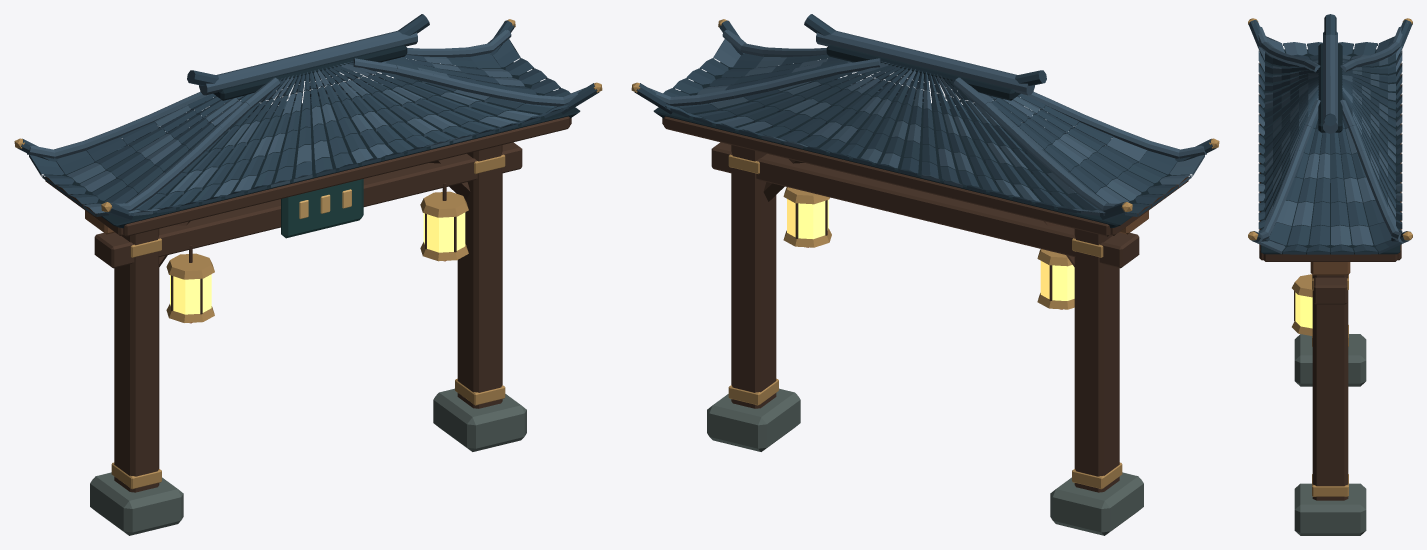
The model's file is gate.glb.
The picture shows the model from 3 angles, left to right: view 1: azimuth 30°, elevation 25°; view 2: azimuth 150°, elevation 25°; view 3: azimuth 270°, elevation 25°; orthographic projection. The views are drawn at different scales.
Parts seen in each view (by area): view 1: gate_Timber, gate_Roof_slate, gate_Roof_weathered, gate_Roof_shadow, gate_Ash_stone, gate_Old_gold, gate_Jade_deep, gate_Lantern_paper; view 2: gate_Timber, gate_Roof_slate, gate_Roof_weathered, gate_Roof_shadow, gate_Ash_stone, gate_Old_gold, gate_Lantern_paper; view 3: gate_Roof_slate, gate_Roof_weathered, gate_Timber, gate_Roof_shadow, gate_Ash_stone, gate_Old_gold, gate_Lantern_paper, gate_Timber_edge.
Boxes of the visible parts, box(x1,y1,x2,y2) form: gate_Timber: box(45, 116, 571, 492); gate_Roof_slate: box(17, 14, 599, 220); gate_Roof_weathered: box(27, 30, 584, 216); gate_Roof_shadow: box(44, 45, 580, 228); gate_Ash_stone: box(90, 388, 526, 535); gate_Old_gold: box(14, 19, 602, 489); gate_Jade_deep: box(281, 179, 363, 238); gate_Lantern_paper: box(170, 212, 465, 314); gate_Timber: box(662, 116, 1188, 492); gate_Roof_slate: box(634, 14, 1216, 220); gate_Roof_weathered: box(649, 30, 1206, 215); gate_Roof_shadow: box(653, 45, 1189, 228); gate_Ash_stone: box(707, 388, 1143, 535); gate_Old_gold: box(631, 19, 1219, 489); gate_Lantern_paper: box(787, 199, 1074, 300); gate_Roof_slate: box(1248, 14, 1412, 254); gate_Roof_weathered: box(1257, 26, 1403, 253); gate_Timber: box(1259, 62, 1401, 500); gate_Roof_shadow: box(1260, 43, 1400, 254); gate_Ash_stone: box(1294, 334, 1366, 535); gate_Old_gold: box(1248, 18, 1412, 496); gate_Lantern_paper: box(1295, 292, 1312, 328); gate_Timber_edge: box(1310, 262, 1350, 275).
Bounding box in the file's own units: 6.26 × 5.19 × 2.
